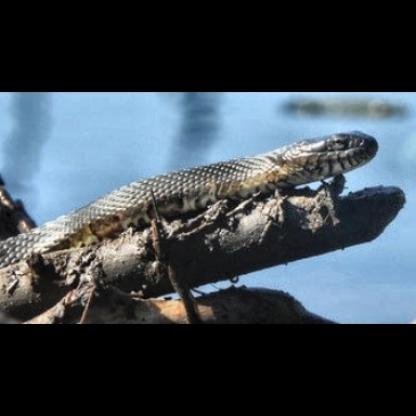Snake: (4, 130, 412, 304)
